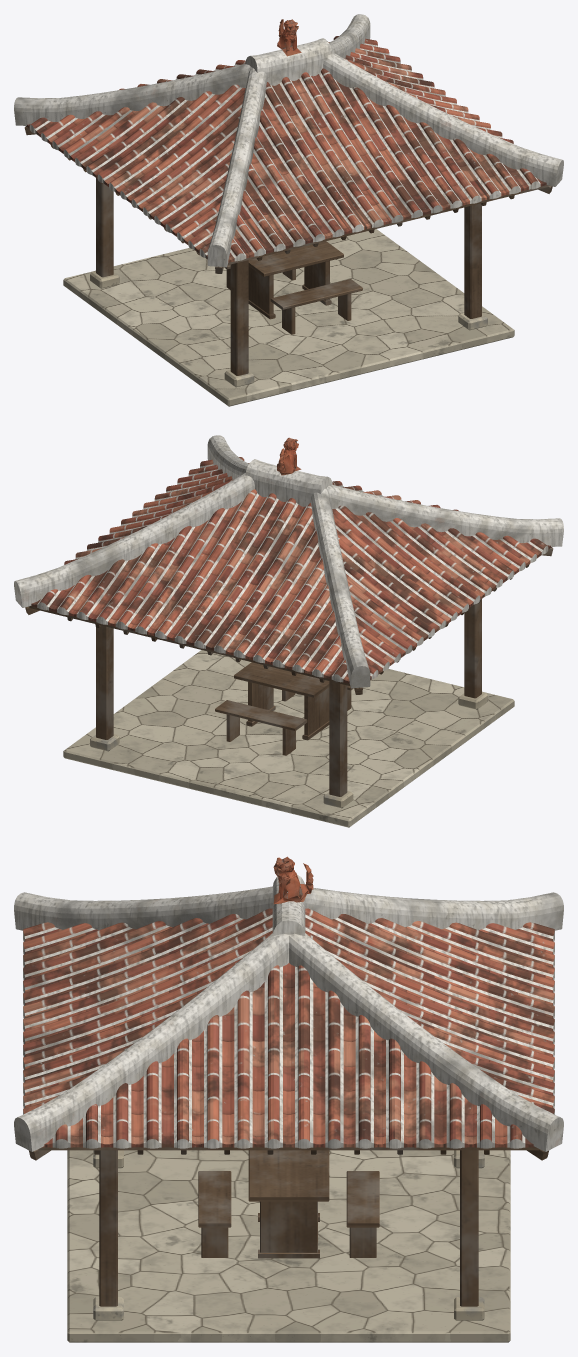
File: Azumaya_A.gltf
3 views of the same model, one above another, from view 1: azimuth 30°, elevation 25°; view 2: azimuth 150°, elevation 25°; view 3: azimuth 270°, elevation 25° (orthographic). The views are drawn at different scales.
Visible parts, largest first — view 1: Azumaya_A; view 2: Azumaya_A; view 3: Azumaya_A.
Part boxes in pixels (left/top/right/bottom): Azumaya_A: left=14, top=14, right=563, bottom=406; Azumaya_A: left=14, top=435, right=563, bottom=827; Azumaya_A: left=14, top=856, right=563, bottom=1342.
Bounding box in the file's own units: 5.34 × 4.19 × 5.34.
6 materials, 6 textured.
